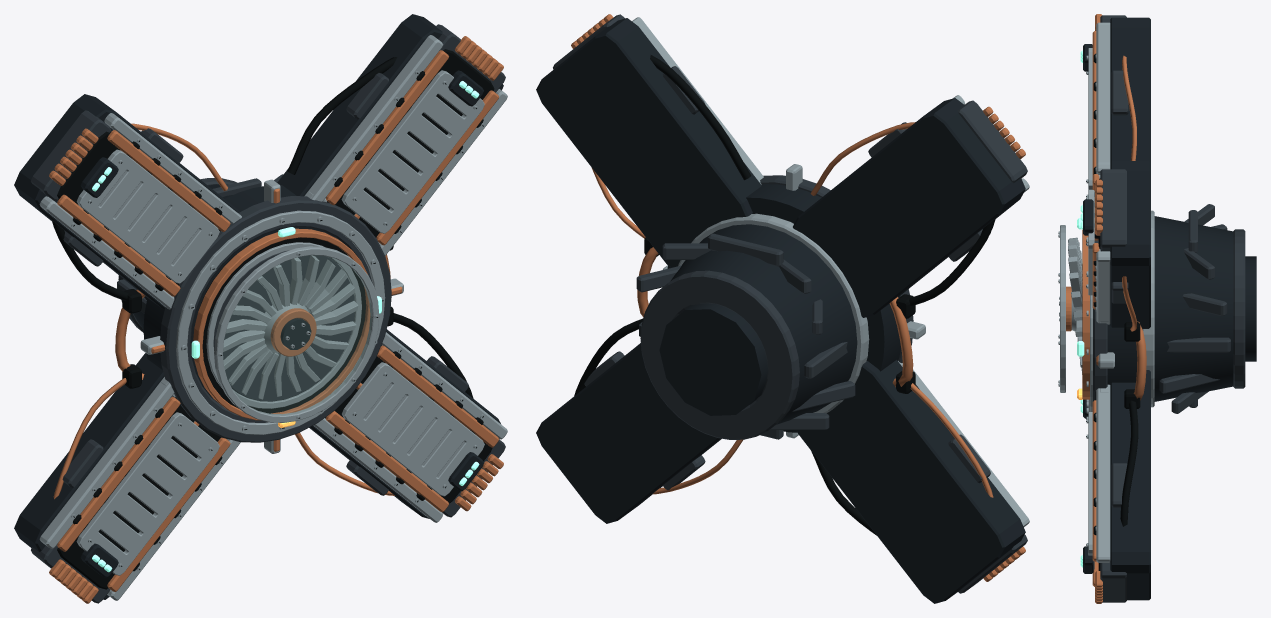
File: x-core-reduced.glb
The picture shows the model from 3 angles, left to right: view 1: azimuth 30°, elevation 25°; view 2: azimuth 150°, elevation 25°; view 3: azimuth 270°, elevation 25°; orthographic projection. The views are drawn at different scales.
Parts seen in each view (by area): view 1: chassis_Satin_machined_titanium, chassis_Satin_copper_busbar, inspection_Smoked_inspection_glass, chassis_Anodized_graphite_chassis, chassis_Black_oxide_steel, chassis_Elastomer_cable_and_gasket, rotor_Satin_machined_titanium, heatshield_2_Satin_machined_titanium, heatshield_3_Satin_machined_titanium, heatshield_1_Satin_machined_titanium, heatshield_0_Satin_machined_titanium, rotor_Black_oxide_steel (+7 smaller); view 2: chassis_Anodized_graphite_chassis, chassis_Black_oxide_steel, chassis_Satin_machined_titanium, chassis_Satin_copper_busbar, chassis_Elastomer_cable_and_gasket; view 3: chassis_Anodized_graphite_chassis, chassis_Black_oxide_steel, chassis_Satin_machined_titanium, chassis_Satin_copper_busbar, chassis_Elastomer_cable_and_gasket, rotor_Satin_machined_titanium, inspection_Satin_machined_titanium, heatshield_2_Satin_machined_titanium, heatshield_0_Satin_machined_titanium, heatshield_3_Satin_machined_titanium, heatshield_3_Anodized_graphite_chassis.
Part boxes in pixels (x1,y1,x2,y2): chassis_Satin_machined_titanium: [39, 35, 507, 600]; chassis_Satin_copper_busbar: [49, 36, 503, 603]; inspection_Smoked_inspection_glass: [223, 255, 371, 415]; chassis_Anodized_graphite_chassis: [14, 14, 503, 599]; chassis_Black_oxide_steel: [31, 24, 505, 603]; chassis_Elastomer_cable_and_gasket: [52, 49, 494, 589]; rotor_Satin_machined_titanium: [217, 255, 358, 399]; heatshield_2_Satin_machined_titanium: [342, 362, 484, 496]; heatshield_3_Satin_machined_titanium: [341, 70, 484, 233]; heatshield_1_Satin_machined_titanium: [76, 412, 219, 575]; heatshield_0_Satin_machined_titanium: [76, 149, 219, 283]; rotor_Black_oxide_steel: [213, 251, 354, 401]; chassis_Anodized_graphite_chassis: [536, 18, 1025, 603]; chassis_Black_oxide_steel: [553, 14, 1027, 593]; chassis_Satin_machined_titanium: [632, 17, 1029, 526]; chassis_Satin_copper_busbar: [571, 14, 1025, 581]; chassis_Elastomer_cable_and_gasket: [574, 55, 995, 535]; chassis_Anodized_graphite_chassis: [1107, 17, 1256, 600]; chassis_Black_oxide_steel: [1093, 15, 1245, 602]; chassis_Satin_machined_titanium: [1086, 22, 1154, 562]; chassis_Satin_copper_busbar: [1082, 14, 1146, 603]; chassis_Elastomer_cable_and_gasket: [1086, 53, 1140, 570]; rotor_Satin_machined_titanium: [1059, 237, 1082, 374]; inspection_Satin_machined_titanium: [1058, 225, 1065, 392]; heatshield_2_Satin_machined_titanium: [1086, 412, 1094, 569]; heatshield_0_Satin_machined_titanium: [1086, 48, 1092, 196]; heatshield_3_Satin_machined_titanium: [1086, 190, 1094, 295]; heatshield_3_Anodized_graphite_chassis: [1083, 199, 1093, 235].
Bounding box in the file's own units: 3.43 × 3.43 × 1.4.
